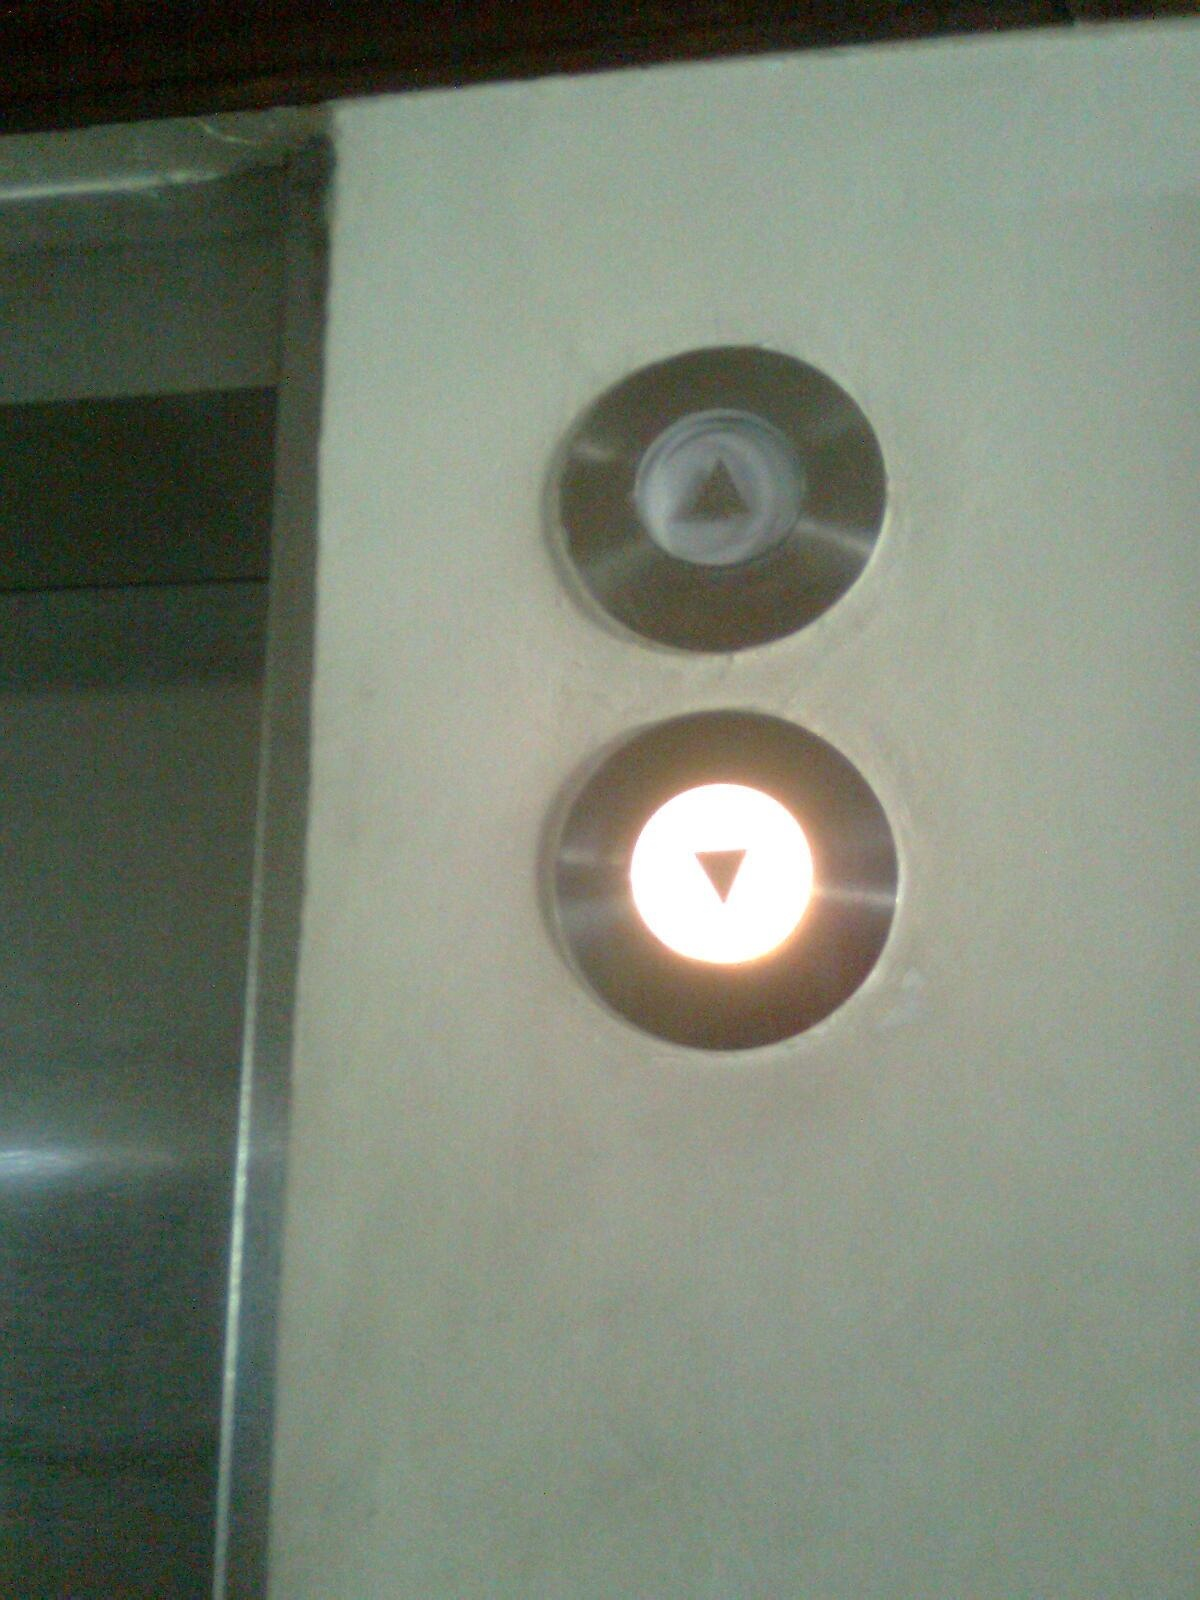down: (532, 706, 906, 1056)
up: (543, 344, 891, 658)
